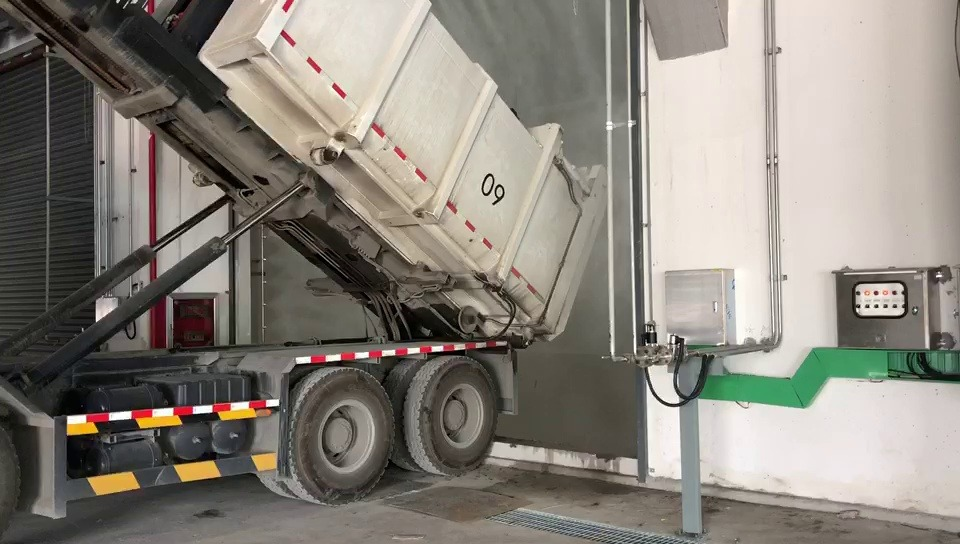truck: (0, 0, 618, 536)
